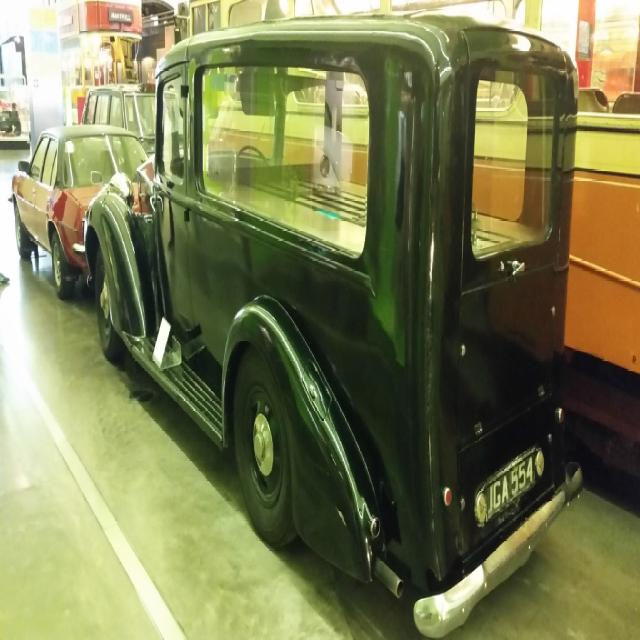car: (66, 0, 568, 609)
